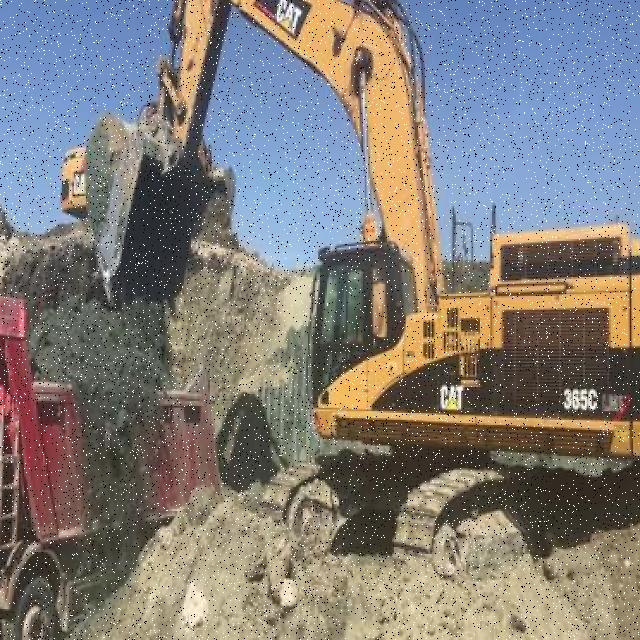Dump Truck: (0, 292, 213, 639)
Excavator: (90, 0, 640, 566)
